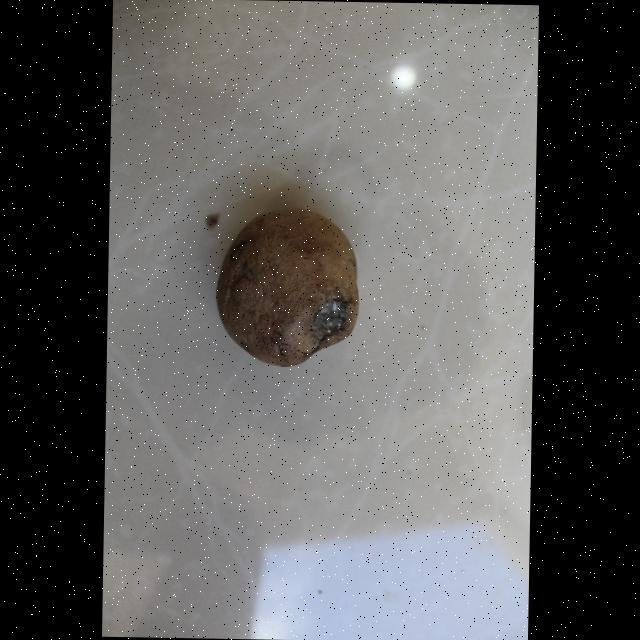Diseased-fungal potato: (214, 204, 361, 368)
